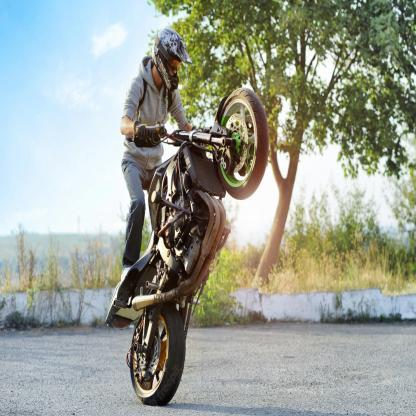helmet: (152, 28, 192, 92)
